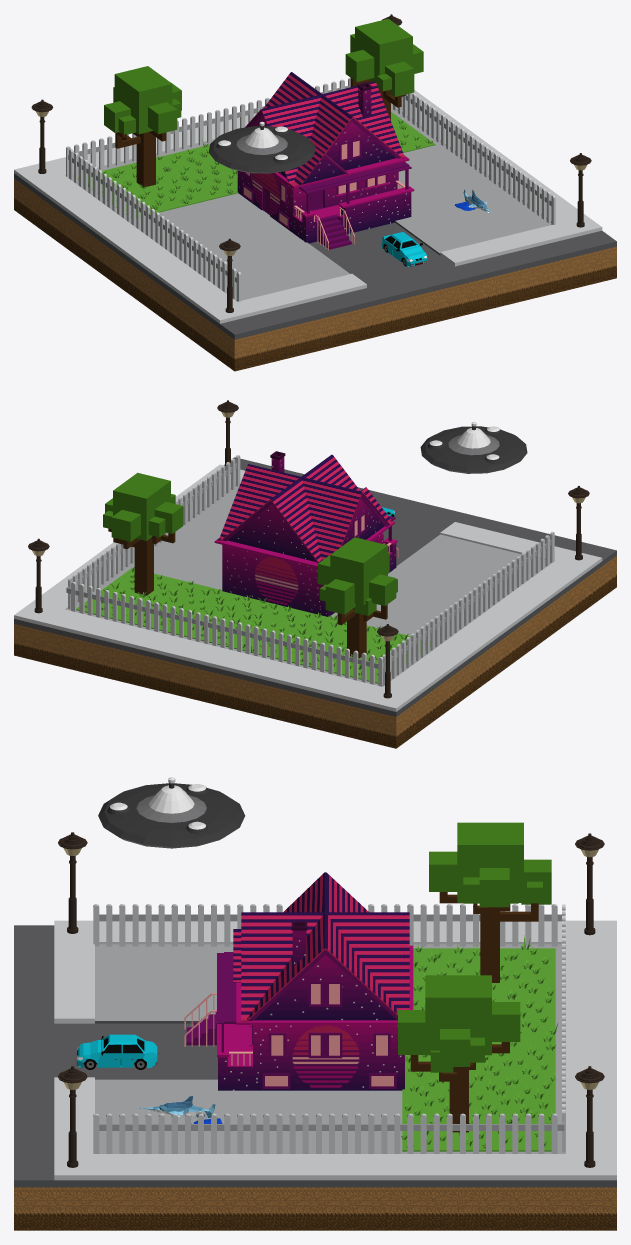
3 renders of one model, top to bottom at view 1: azimuth 30°, elevation 25°; view 2: azimuth 150°, elevation 25°; view 3: azimuth 270°, elevation 25°, orthographic. The views are drawn at different scales.
Parts seen in each view (by area): view 1: Cube.004, Cube.156, OBJRANDOM_UFO, VEHICLES_CAR; view 2: Cube.004, Cube.156, OBJRANDOM_UFO; view 3: Cube.004, Cube.156, OBJRANDOM_UFO, VEHICLES_CAR, ANIMAL_PEZ_ESPADA.
Part boxes in pixels (bbox=[...]): Cube.004: bbox=[14, 14, 616, 371]; Cube.156: bbox=[237, 72, 414, 250]; OBJRANDOM_UFO: bbox=[208, 121, 315, 173]; VEHICLES_CAR: bbox=[381, 232, 427, 266]; Cube.004: bbox=[14, 400, 616, 748]; Cube.156: bbox=[214, 451, 398, 616]; OBJRANDOM_UFO: bbox=[420, 422, 527, 473]; Cube.004: bbox=[14, 822, 616, 1230]; Cube.156: bbox=[184, 872, 413, 1090]; OBJRANDOM_UFO: bbox=[98, 777, 245, 848]; VEHICLES_CAR: bbox=[76, 1034, 158, 1069]; ANIMAL_PEZ_ESPADA: bbox=[138, 1096, 222, 1123].
Bounding box in the file's own units: 4000 × 2094 × 4000.
Materials: 36 (5 with a texture image).
